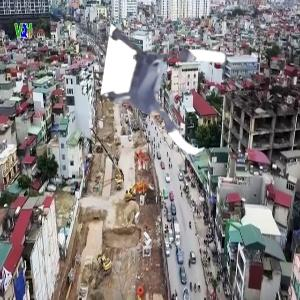drone: (102, 31, 230, 159)
